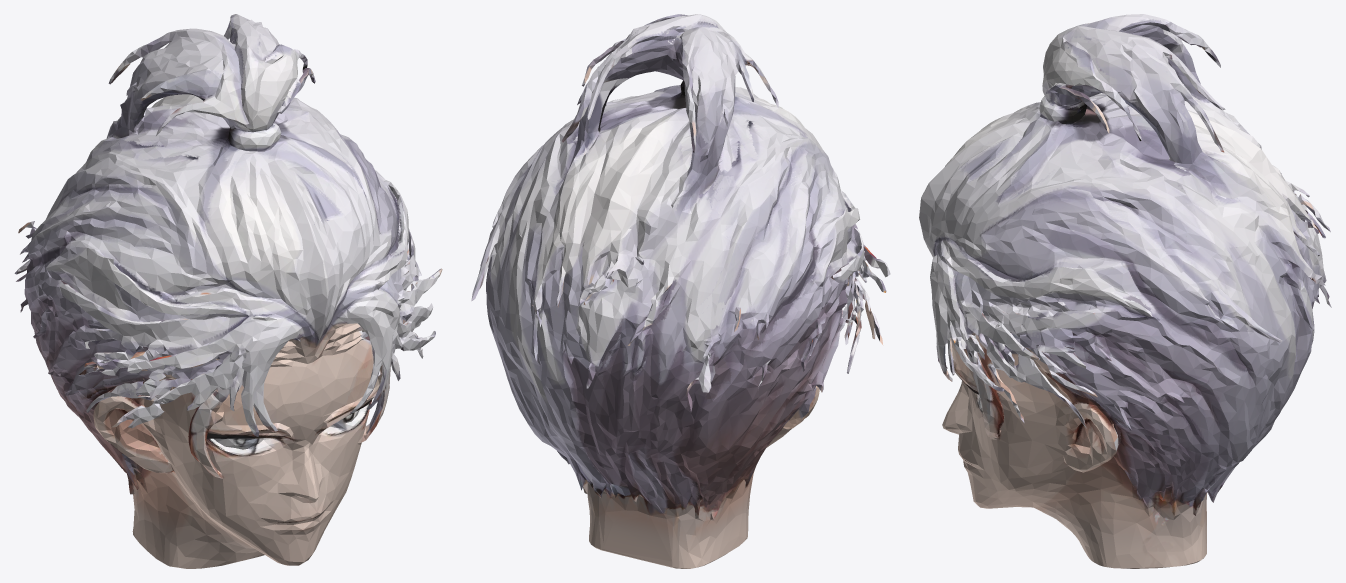
Rendered from side_craneduellist_repaired_atlas.glb.
3 renders of one model, left to right at view 1: azimuth 30°, elevation 25°; view 2: azimuth 150°, elevation 25°; view 3: azimuth 270°, elevation 25°, orthographic. The views are drawn at different scales.
Visible parts, largest first — view 1: temp_mesh.ply; view 2: temp_mesh.ply; view 3: temp_mesh.ply.
Boxes of the visible parts, box(x1,y1,x2,y2) form: temp_mesh.ply: box(14, 14, 442, 568); temp_mesh.ply: box(471, 14, 890, 568); temp_mesh.ply: box(919, 14, 1331, 568).
Bounding box in the file's own units: 1.39 × 1.97 × 1.44.
Materials: 1 (1 with a texture image).
